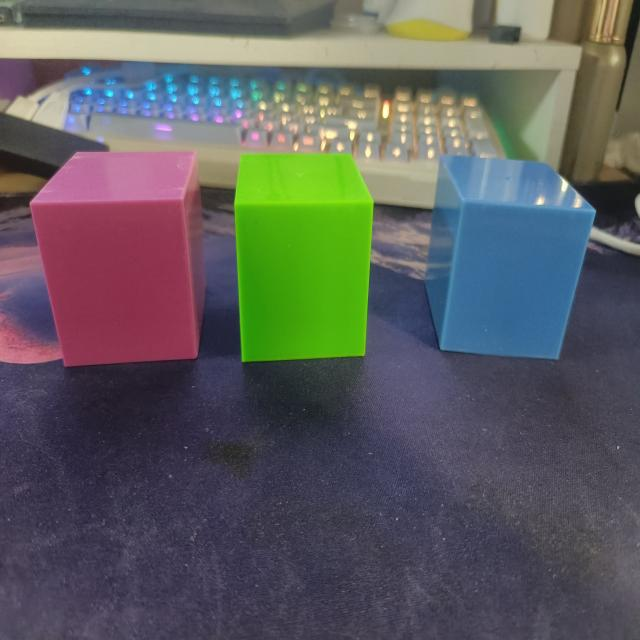blue: (426, 156, 596, 362)
green: (233, 152, 373, 366)
pink: (29, 150, 205, 370)
